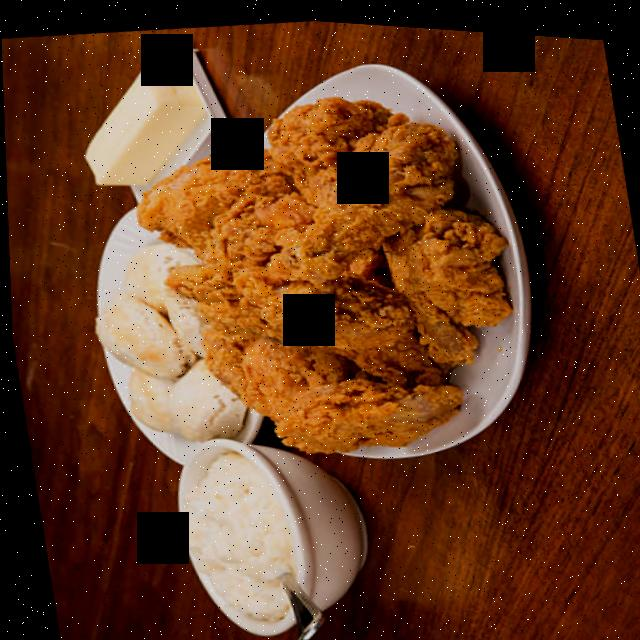Frango: (115, 57, 540, 482)
